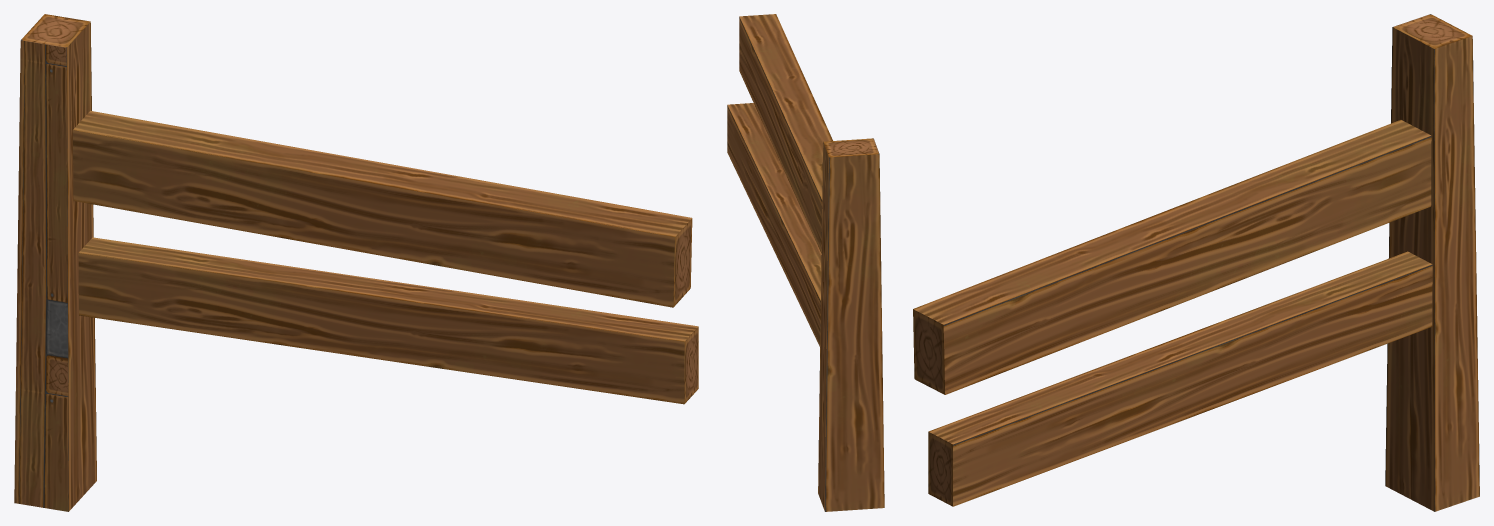
The picture shows the model from 3 angles, left to right: view 1: azimuth 30°, elevation 25°; view 2: azimuth 150°, elevation 25°; view 3: azimuth 270°, elevation 25°; orthographic projection. The views are drawn at different scales.
Parts seen in each view (by area): view 1: Cube.2039; view 2: Cube.2039; view 3: Cube.2039.
Part boxes in pixels (x1,y1,x2,y2): Cube.2039: (14, 14, 698, 511); Cube.2039: (727, 14, 884, 511); Cube.2039: (913, 14, 1479, 511).
Size of the model in its own units: 143 by 142 by 159.
Materials: 1 (1 with a texture image).
